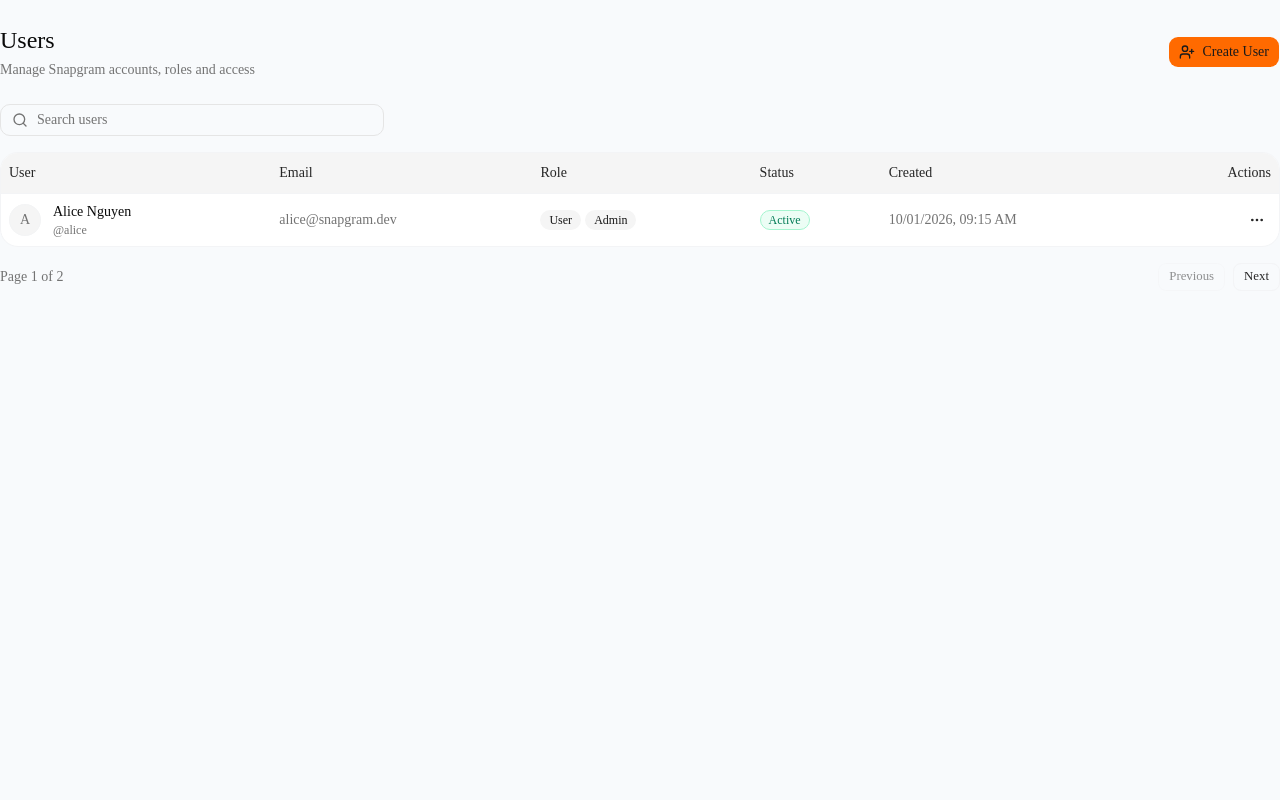
Test case: UsersPageContent › closes the detail drawer again
This screenshot has width=1280, height=800.
Click the text "Alice Nguyen" at point(92, 212), box [53,202,131,222]
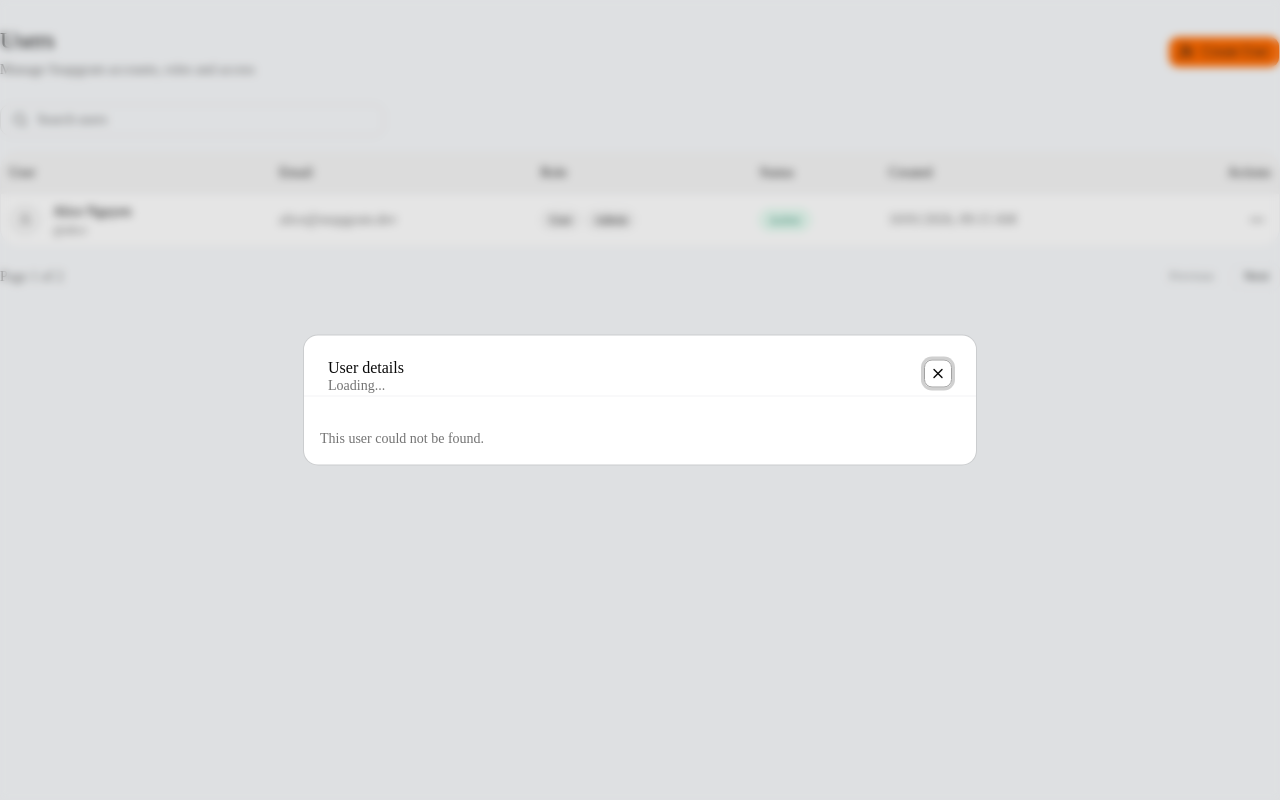
Expected: the dialog is shown, [304,336,976,464]
Click the button named "Close details" at point(938, 374), box [924,360,952,388]
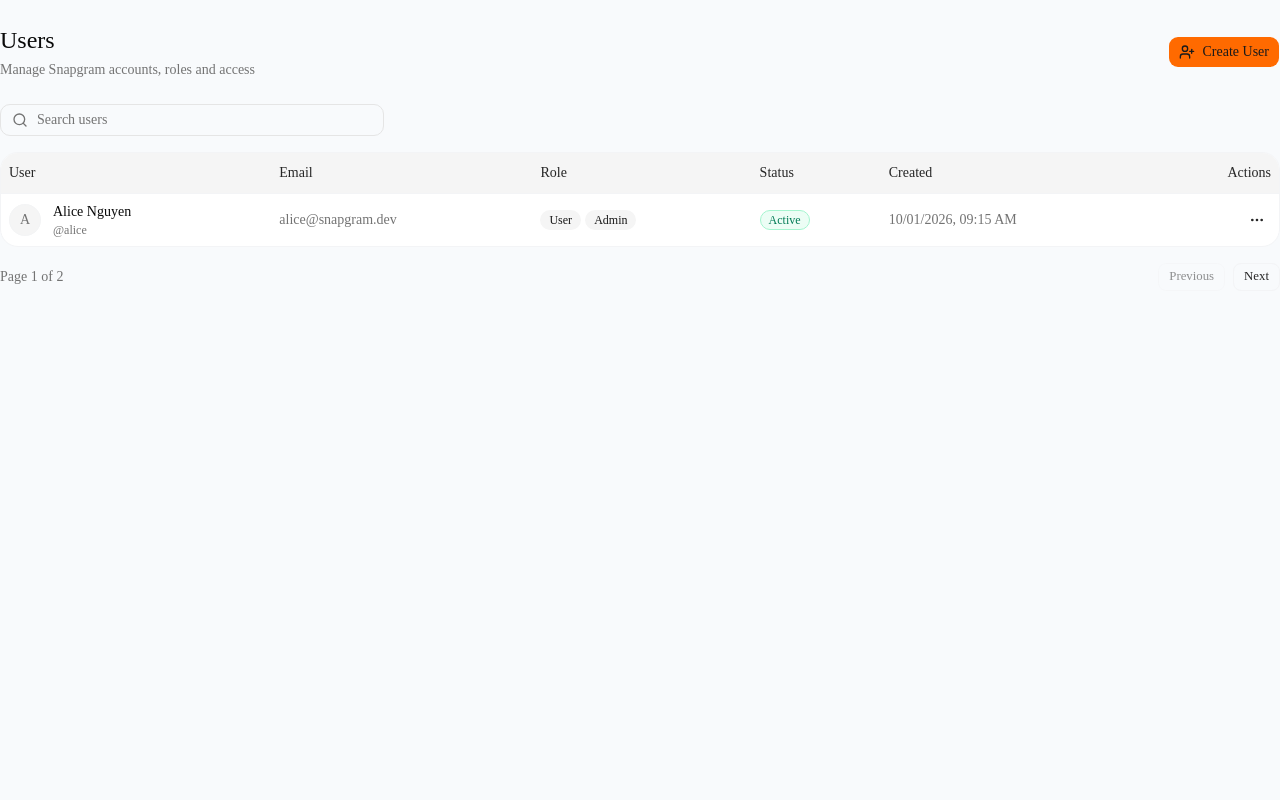
Expected: the dialog is gone
